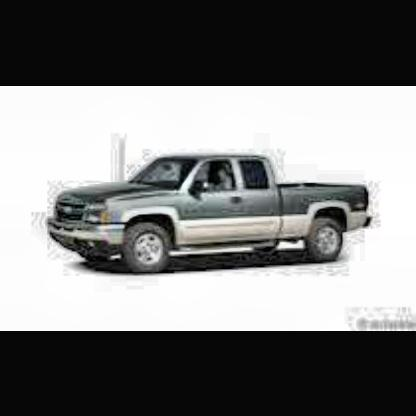Chevrolet Silverado 1500 Classic Extended Cab 2007: (46, 153, 376, 275)
